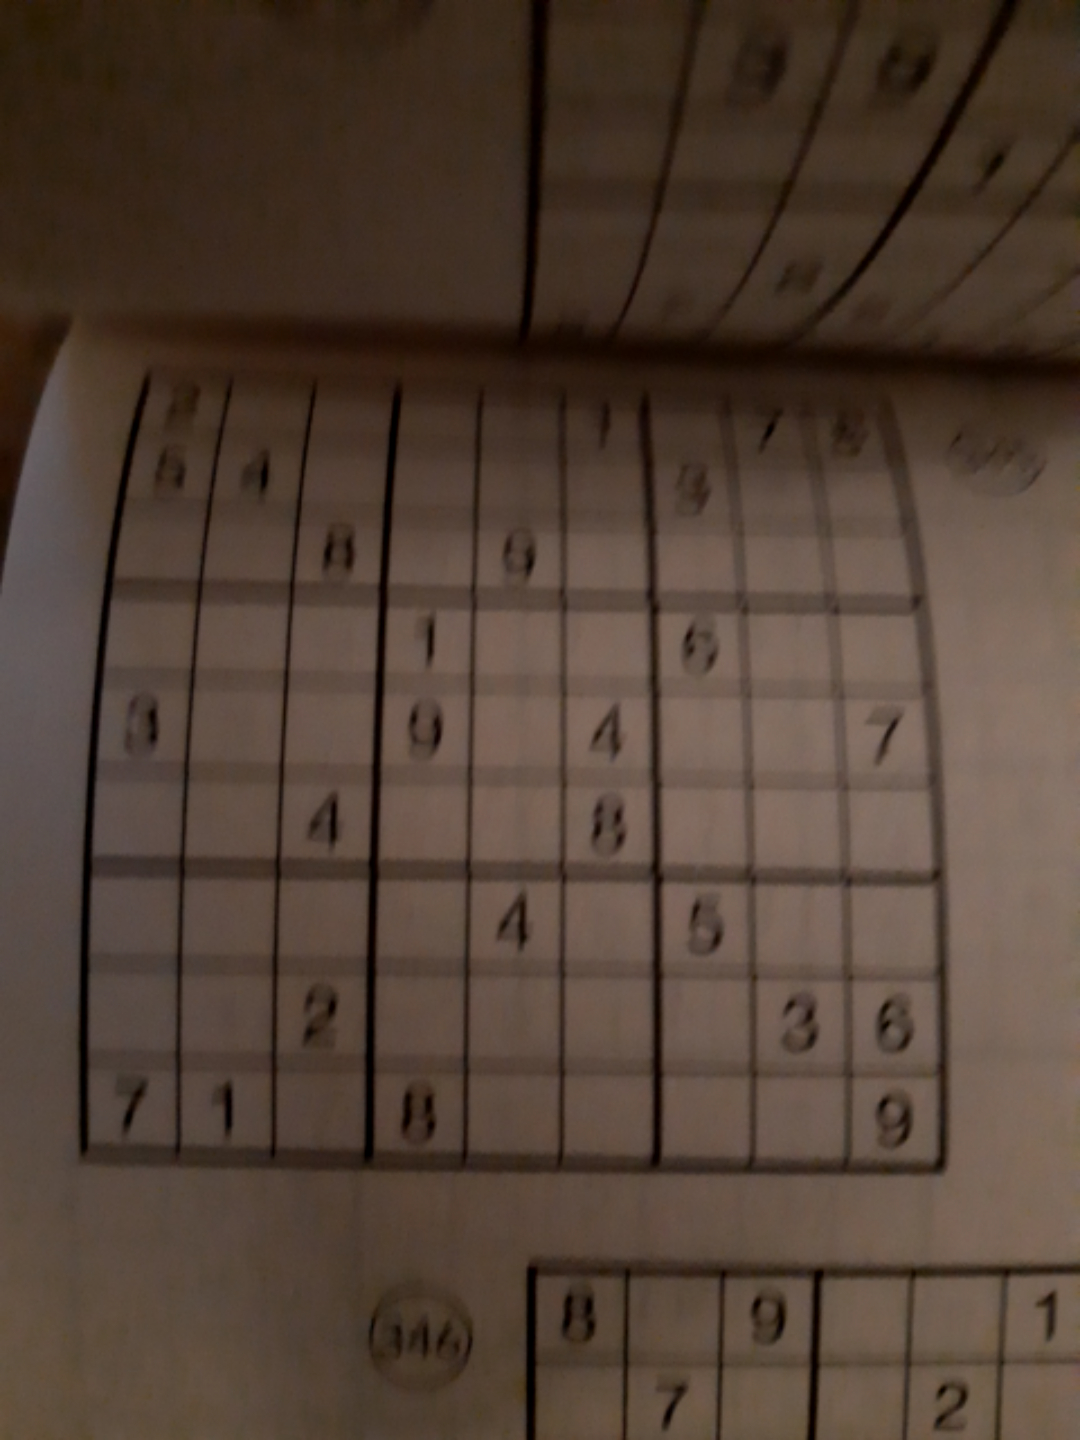sudoku: (75, 359, 953, 1178)
